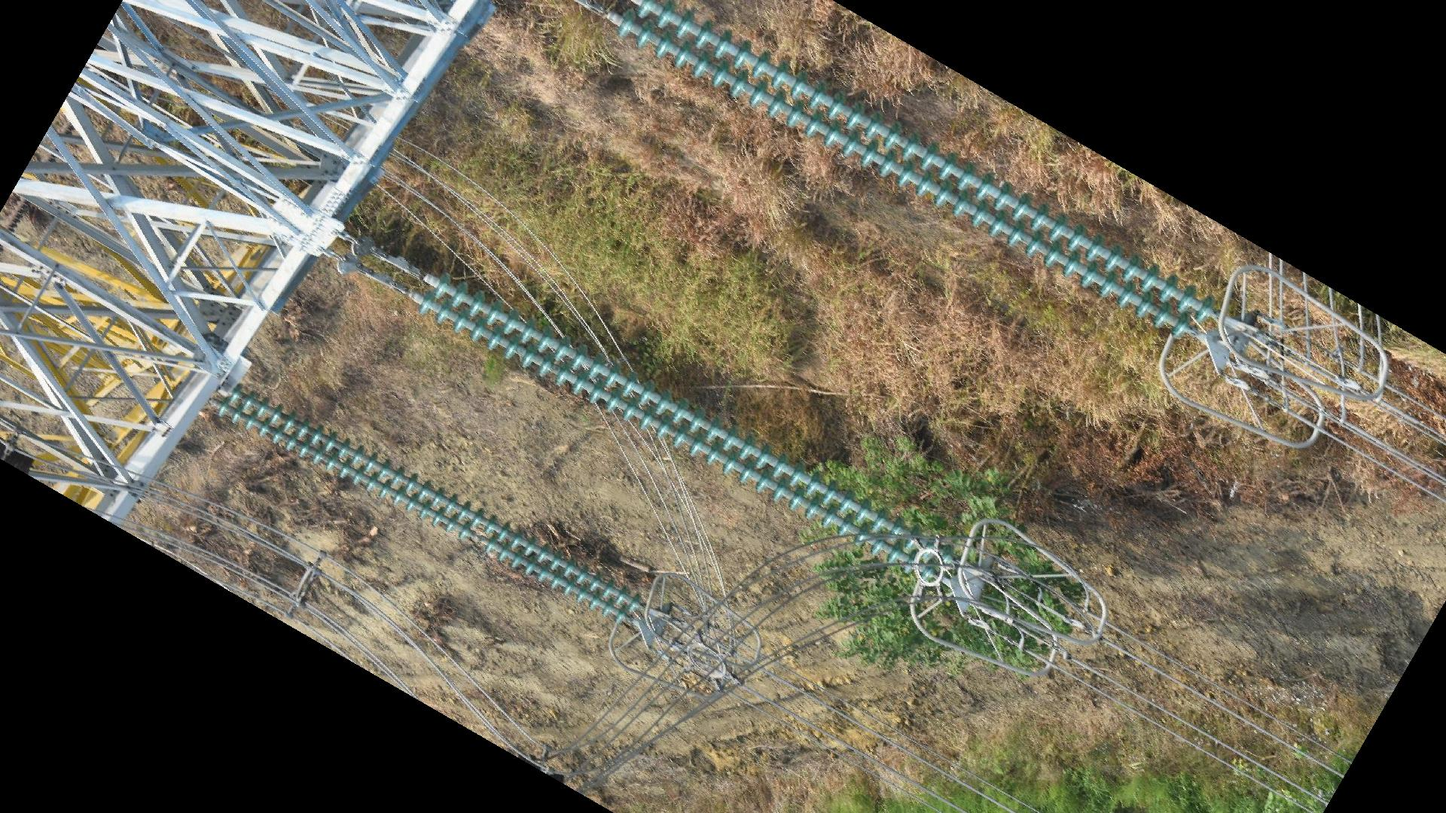insulator: (611, 1, 1217, 343), (411, 270, 962, 585), (215, 381, 645, 628), (2, 196, 32, 234)
insulator_stringdrop: (453, 517, 499, 555)
